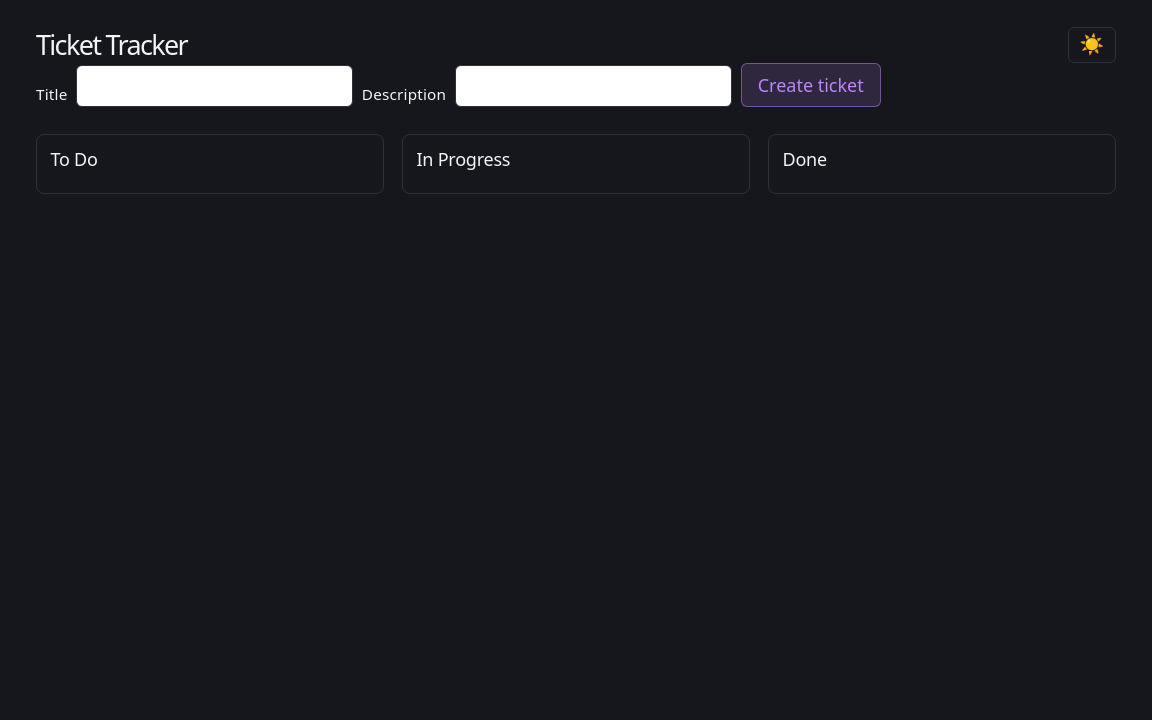
Test case: theme toggle interaction (T-light-mode-theme-1n8w9z B-2) › flips the active theme on click and flips back on a second click
The image size is (1152, 720).
Expected: the element "To Do" is shown, [36,134,384,194]
Click the button named "switch to light". click: (1092, 45)
box: [1068,27,1116,63]
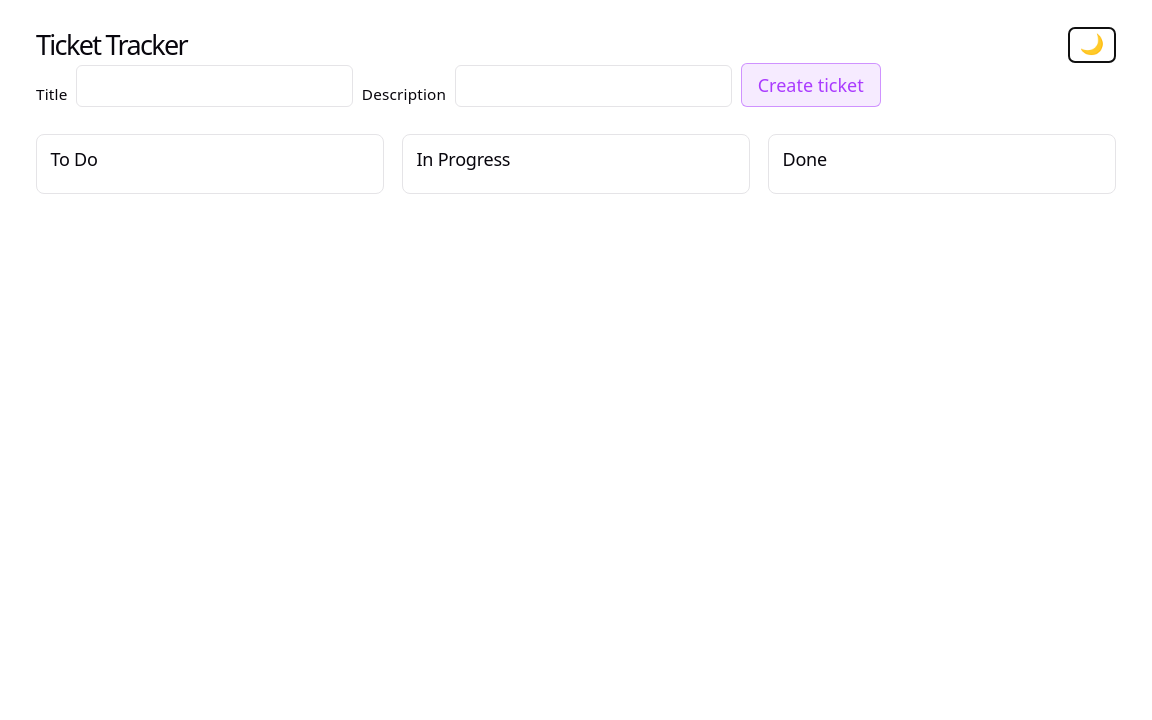
Result: the button named "switch to dark" is shown
Click the button named "switch to dark". click: (1092, 45)
box: [1068,27,1116,63]
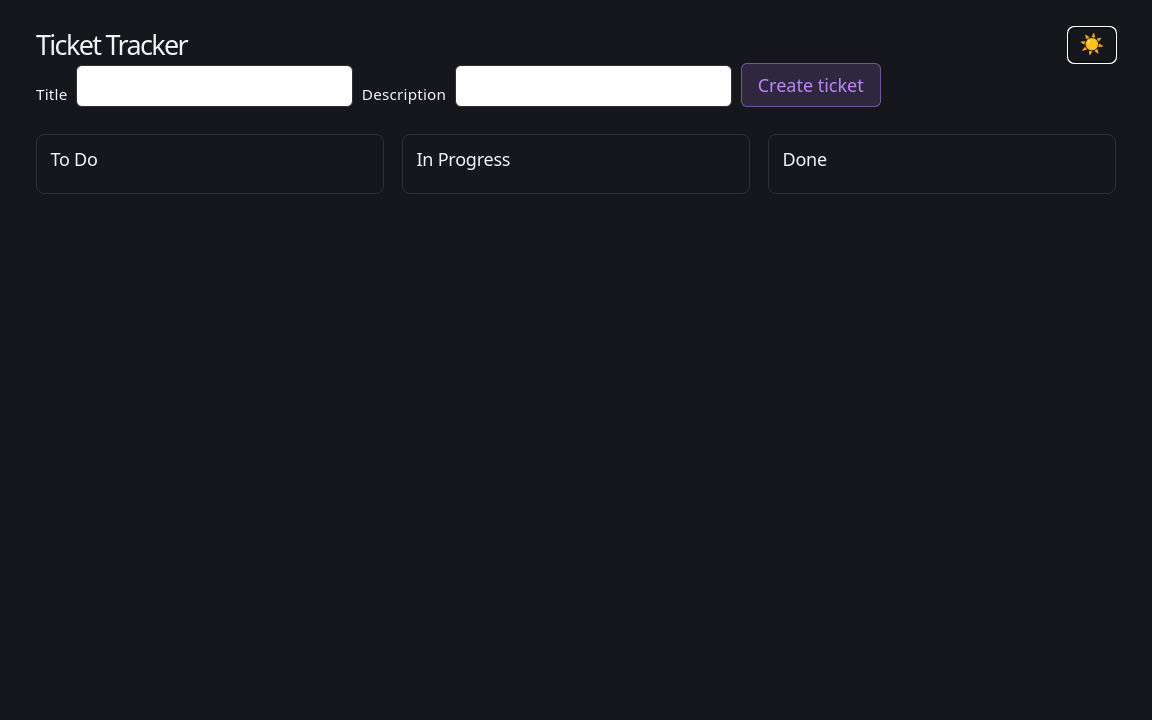
Result: the button named "switch to light" is shown at [1068,27,1116,63]
